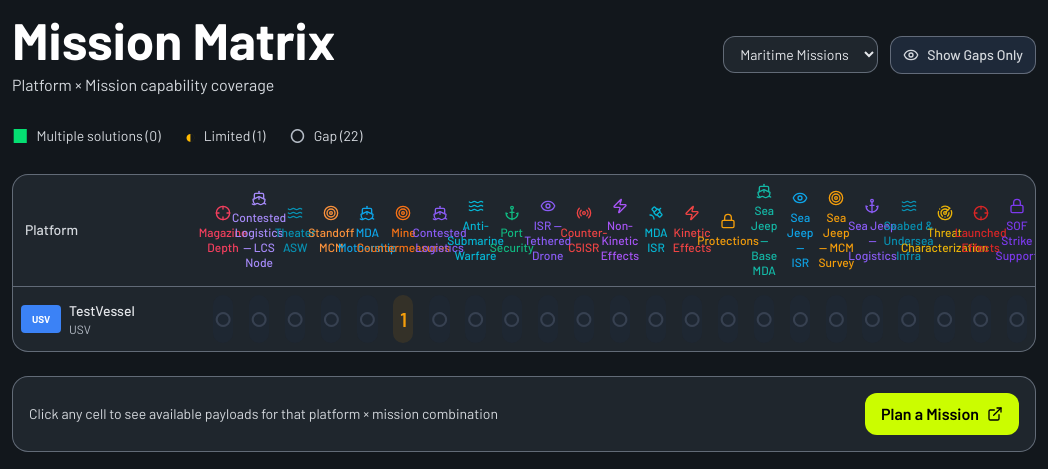
Test case: MissionMatrix › hides non-gap cells when the gaps toggle is on
Expected: the button titled "1 payloads for TestVessel × Mine Countermeasures" is shown, [393, 295, 414, 343]
Click the button "Show Gaps Only": [963, 55] box [890, 36, 1036, 74]
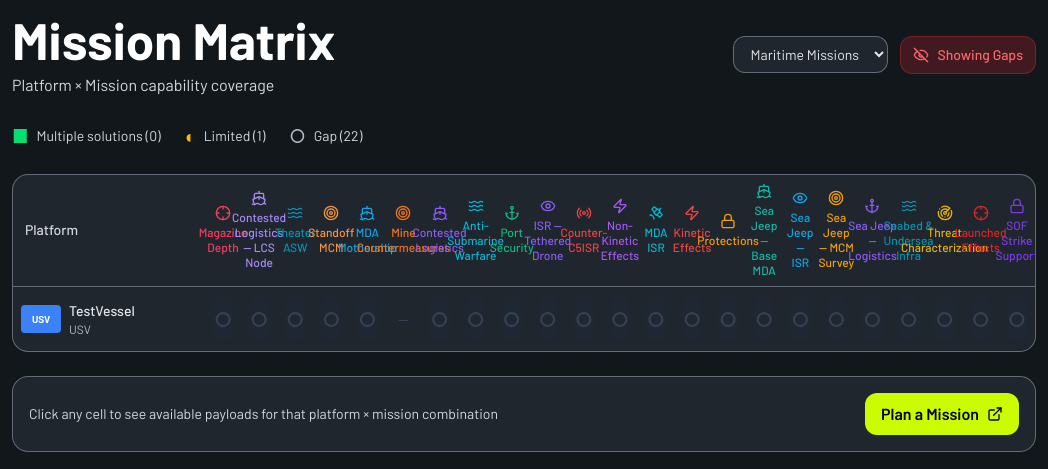
Expected: the 1st button titled "0 payloads for TestVessel" is shown, [213, 295, 233, 343]
Expected: the button "Showing Gaps" is shown, [900, 36, 1036, 74]
